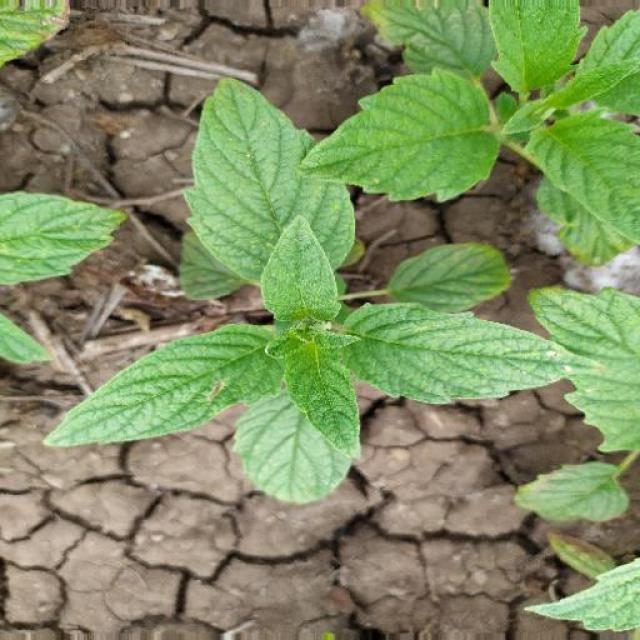crop: (39, 4, 640, 546)
